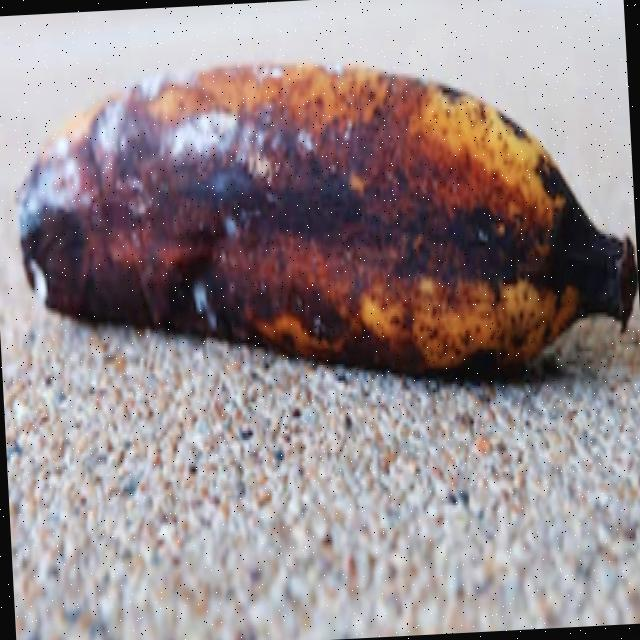Rotten: (0, 11, 640, 440)
